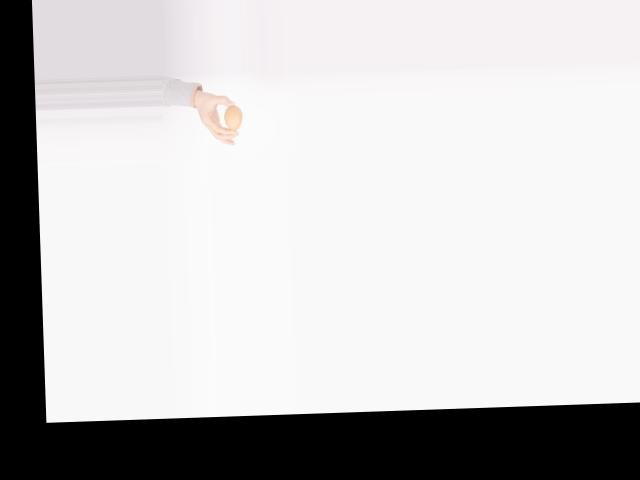egg: (224, 105, 243, 131)
